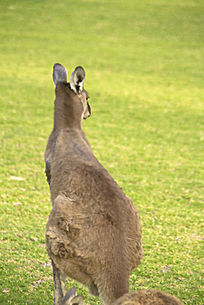kangaroo: (38, 58, 181, 304)
